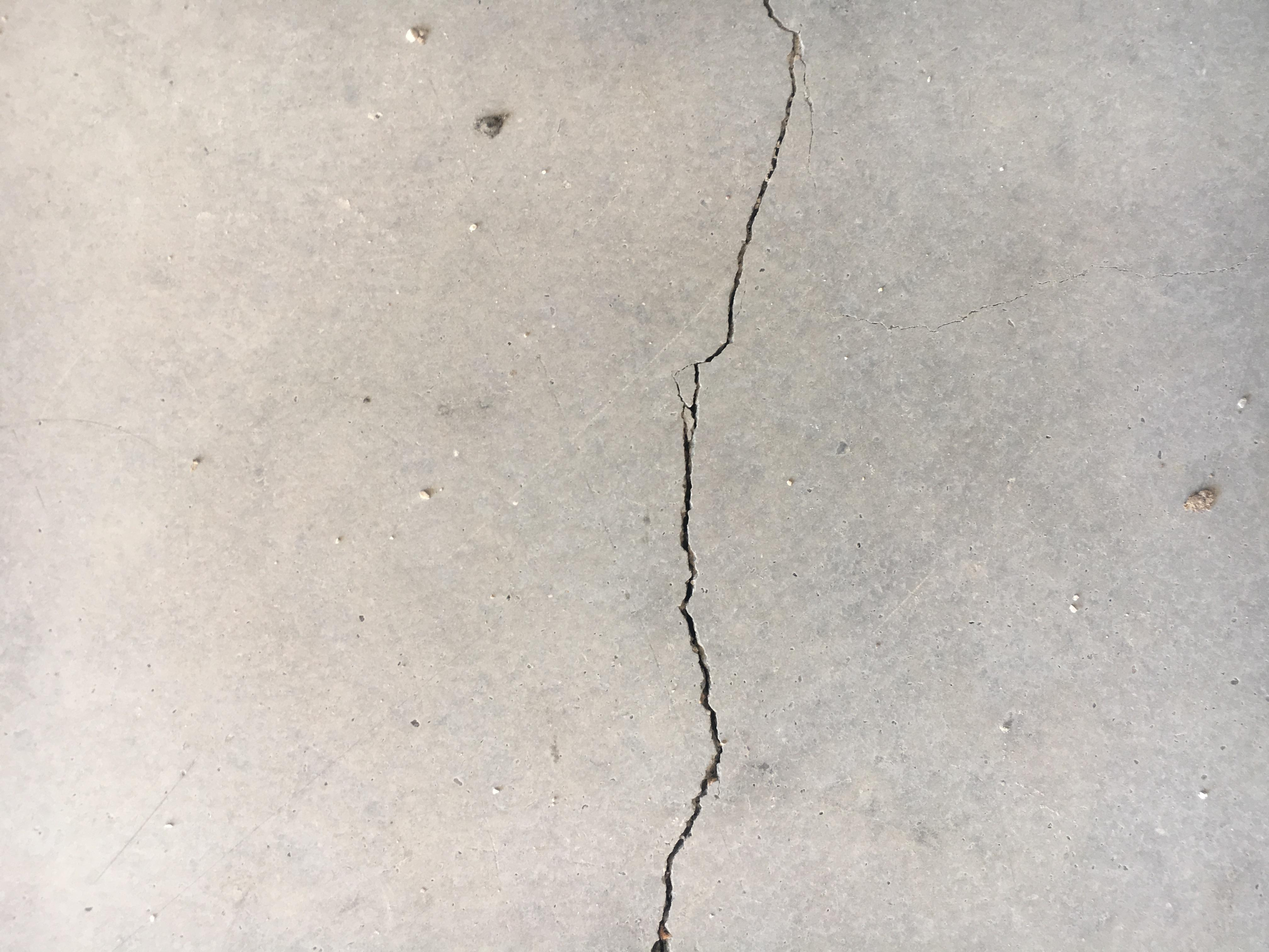Vertical Crack: (647, 3, 810, 947)
